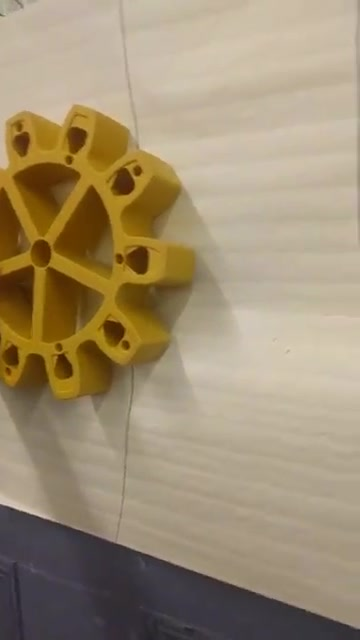gear: (1, 100, 182, 446)
